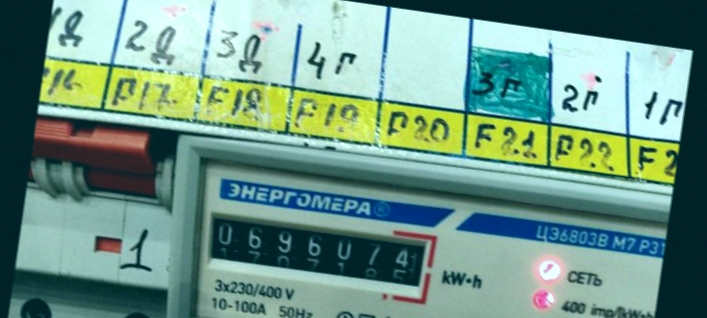0: (212, 219, 234, 245), (333, 234, 352, 261)
4: (391, 242, 410, 266)
5: (389, 267, 407, 284)
6: (304, 230, 325, 258), (244, 223, 264, 249)
7: (363, 239, 383, 266)
9: (273, 226, 293, 254)
screen: (193, 198, 440, 300)
